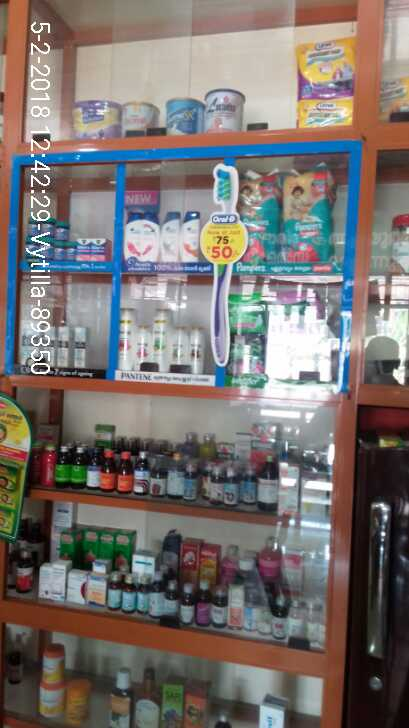vicks: (22, 215, 109, 266)
